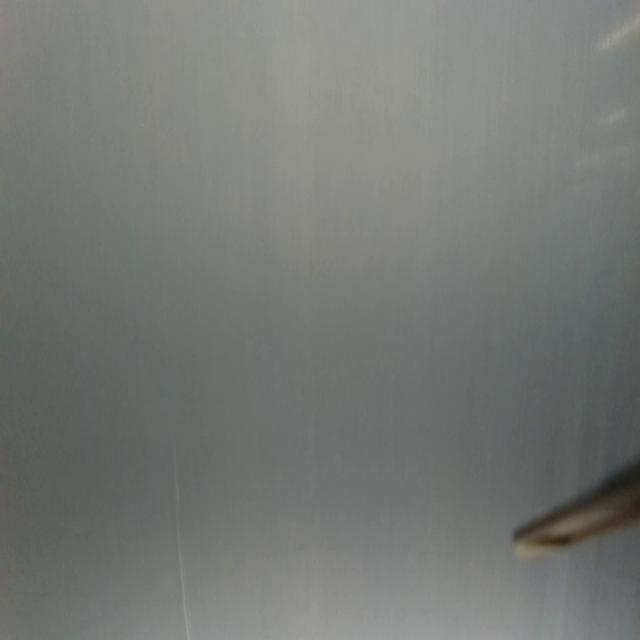crease: (172, 436, 194, 638)
